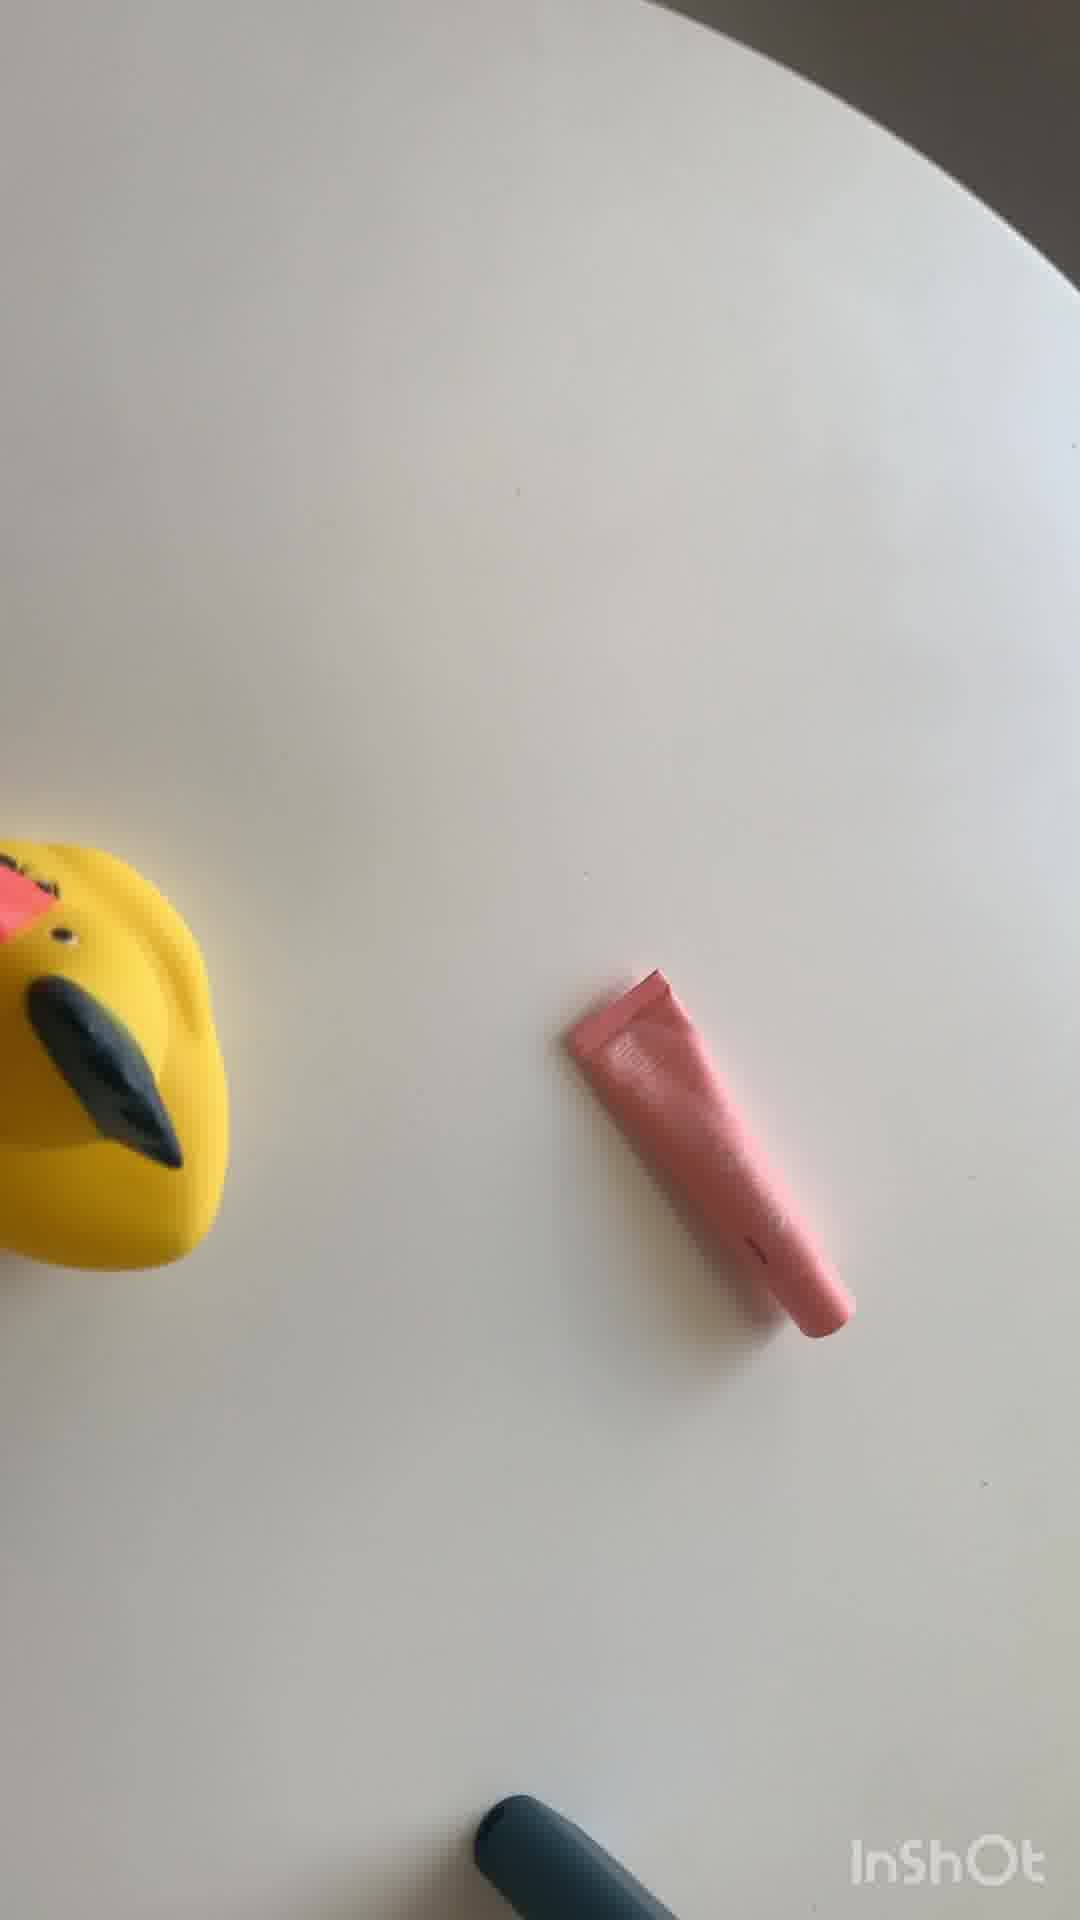duck: (1, 831, 251, 1280)
glo: (469, 1782, 703, 1920)
lip balm: (551, 967, 856, 1344)
